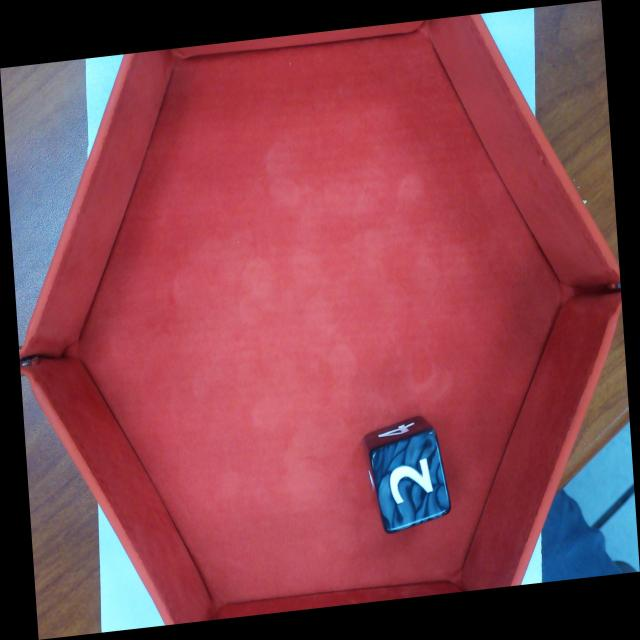dice: (368, 427, 453, 537)
